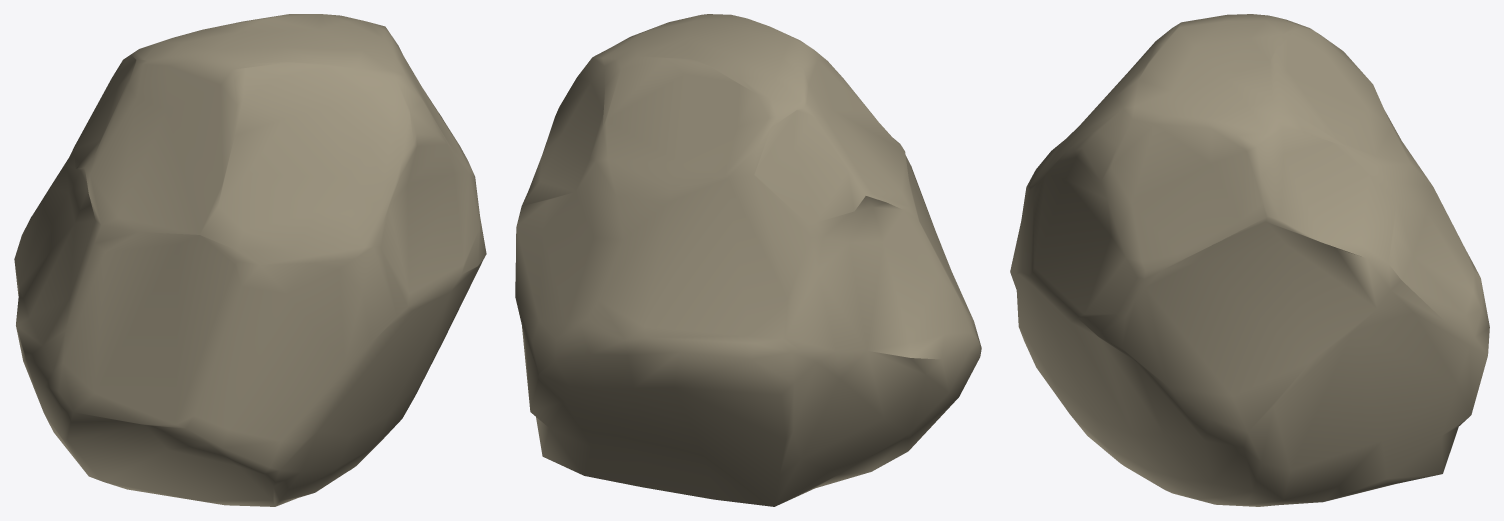
File: Environment_Rock_4.glb
3 renders of one model, left to right at view 1: azimuth 30°, elevation 25°; view 2: azimuth 150°, elevation 25°; view 3: azimuth 270°, elevation 25°, orthographic. The views are drawn at different scales.
Visible parts, largest first — view 1: Environment_Rock_4; view 2: Environment_Rock_4; view 3: Environment_Rock_4.
Part boxes in pixels (bbox=[...]): Environment_Rock_4: bbox=[14, 14, 486, 506]; Environment_Rock_4: bbox=[515, 14, 981, 506]; Environment_Rock_4: bbox=[1010, 14, 1489, 506].
Size of the model in its own units: 0.7628 by 0.7114 by 0.746.
1 material, 1 textured.
